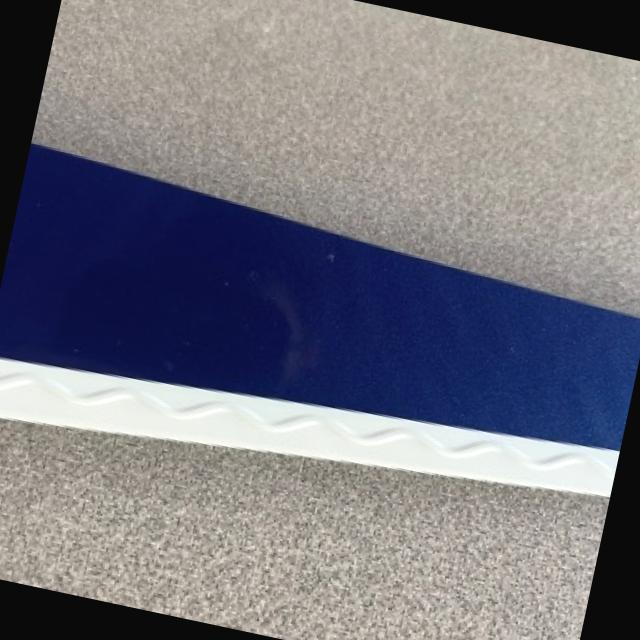healthy: (0, 141, 640, 493)
